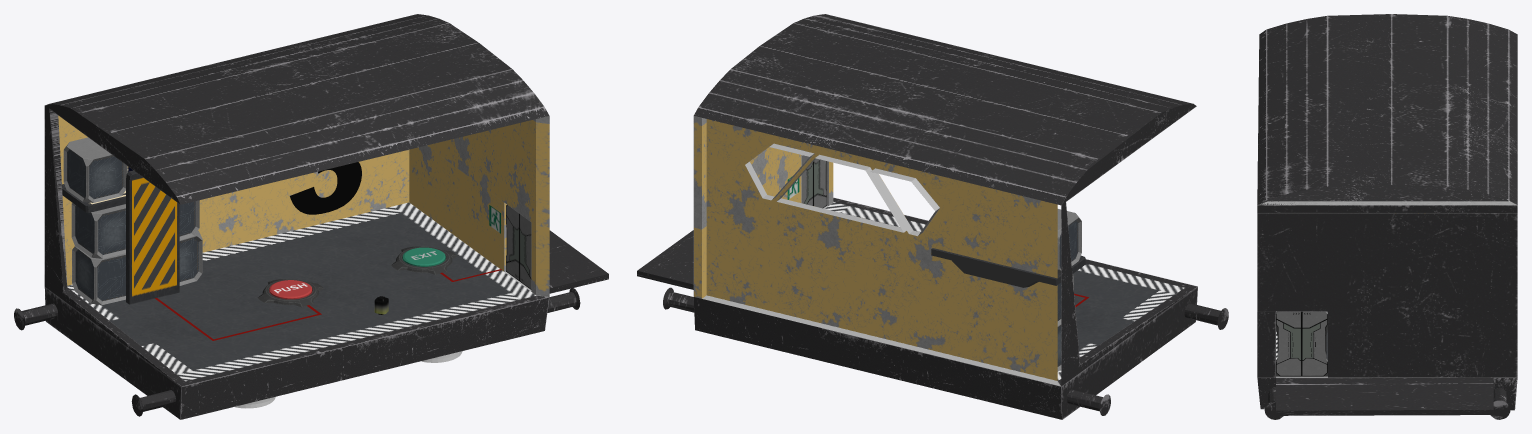
File: level3.obj
The picture shows the model from 3 angles, left to right: view 1: azimuth 30°, elevation 25°; view 2: azimuth 150°, elevation 25°; view 3: azimuth 270°, elevation 25°; orthographic projection. The views are drawn at different scales.
Parts seen in each view (by area): view 1: F_floor_1.009, R_roof_1.010, W_back_wall_1.010, W_right_wall_down_1.010, W_left_wall_1.010, Y_decoBox1_3.017, W_right_wall_left_1.010, M_09_question_platform_9.001, Y_decoBox1_3.011, X_Przejscie6.001, X_levelNumber3.001, W_right_wall_right_1.011 (+7 smaller); view 2: W_back_wall_1.010, R_roof_1.010, F_floor_1.009, W_left_wall_1.010, W_right_wall_down_1.010, S_corner_platform_1.010, X_Przejscie6.001, W_right_wall_left_1.010, Y_decoBox1_3.011, D_right_door_6.001; view 3: R_roof_1.010, W_right_wall_down_1.010, W_right_wall_left_1.010, X_Przejscie6.001, W_right_wall_up_1.010, F_floor_1.009, D_left_door_6.001, D_right_door_6.001, W_right_wall_right_1.011.
Boxes of the visible parts, x1,y1,x2,y2 form: F_floor_1.009: [14, 202, 580, 419]; R_roof_1.010: [50, 14, 549, 204]; W_back_wall_1.010: [58, 115, 409, 285]; W_right_wall_down_1.010: [426, 120, 549, 227]; W_left_wall_1.010: [44, 103, 184, 386]; Y_decoBox1_3.017: [71, 200, 202, 304]; W_right_wall_left_1.010: [409, 145, 506, 271]; M_09_question_platform_9.001: [126, 170, 179, 304]; Y_decoBox1_3.011: [63, 137, 127, 202]; X_Przejscie6.001: [549, 230, 608, 293]; X_levelNumber3.001: [290, 162, 361, 214]; W_right_wall_right_1.011: [531, 222, 549, 296]; W_back_wall_1.010: [706, 119, 1057, 380]; R_roof_1.010: [694, 14, 1192, 205]; F_floor_1.009: [663, 197, 1228, 419]; W_left_wall_1.010: [1061, 103, 1197, 386]; W_right_wall_down_1.010: [693, 123, 802, 229]; S_corner_platform_1.010: [931, 248, 1085, 287]; X_Przejscie6.001: [637, 230, 693, 289]; W_right_wall_left_1.010: [693, 157, 801, 298]; Y_decoBox1_3.011: [1057, 209, 1081, 273]; D_right_door_6.001: [813, 158, 826, 208]; R_roof_1.010: [1257, 14, 1517, 205]; W_right_wall_down_1.010: [1257, 213, 1517, 311]; W_right_wall_left_1.010: [1328, 311, 1517, 377]; X_Przejscie6.001: [1276, 377, 1493, 415]; W_right_wall_up_1.010: [1257, 201, 1517, 212]; F_floor_1.009: [1257, 311, 1517, 419]; D_left_door_6.001: [1302, 311, 1327, 376]; D_right_door_6.001: [1276, 311, 1301, 376]; W_right_wall_right_1.011: [1257, 311, 1275, 377].
Size of the model in its own units: 14.32 by 7.33 by 7.19.
18 materials, 18 textured.
